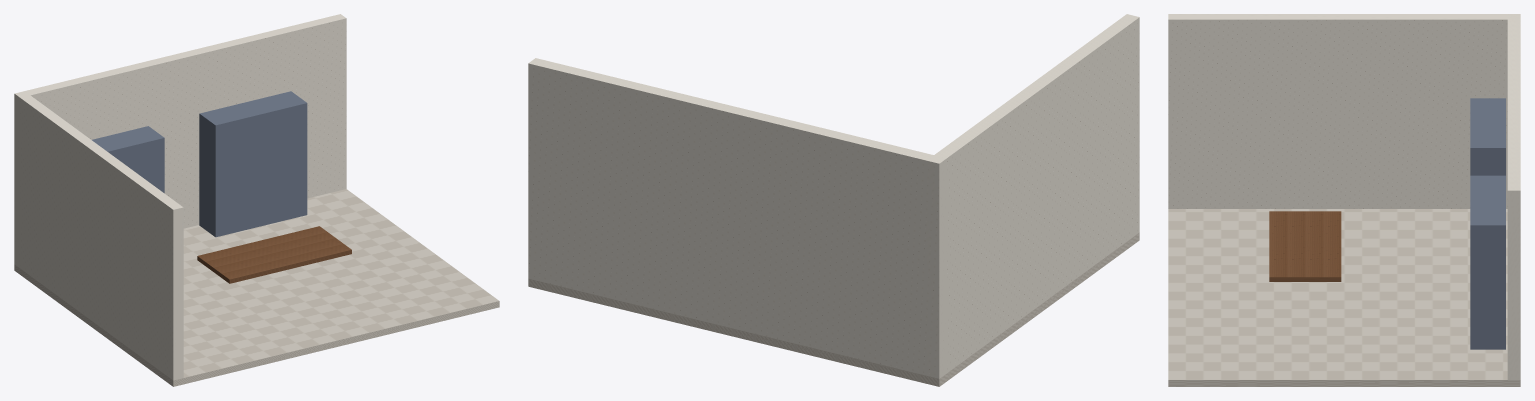
The model's file is ch5_env_event_prep_room.glb.
3 views of the same model, side by side, from view 1: azimuth 30°, elevation 25°; view 2: azimuth 150°, elevation 25°; view 3: azimuth 270°, elevation 25° (orthographic). The views are drawn at different scales.
Parts seen in each view (by area): view 1: ch5_env_event_prep_room; view 2: ch5_env_event_prep_room; view 3: ch5_env_event_prep_room.
Boxes of the visible parts, left/top/right/bottom form: ch5_env_event_prep_room: left=14, top=14, right=499, bottom=386; ch5_env_event_prep_room: left=528, top=14, right=1139, bottom=386; ch5_env_event_prep_room: left=1168, top=14, right=1520, bottom=386.
Size of the model in its own units: 6.4 by 3.32 by 5.4.
Materials: 5 (4 with a texture image).
